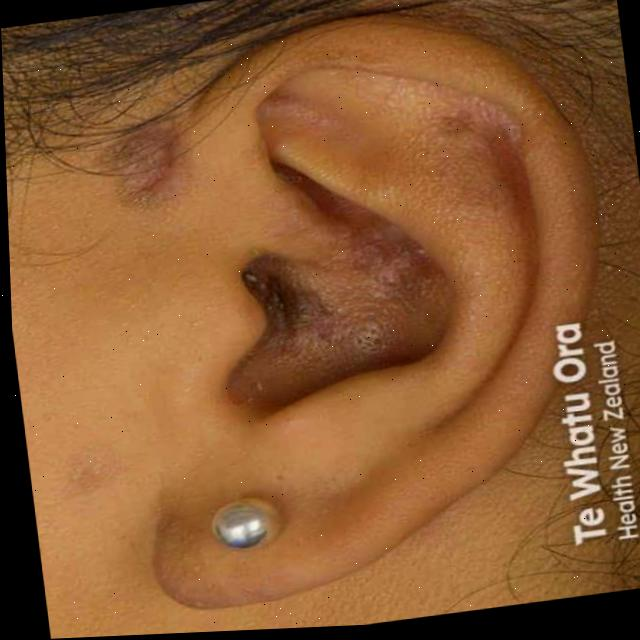lupus-detected: (212, 93, 586, 394), (84, 68, 232, 274)
